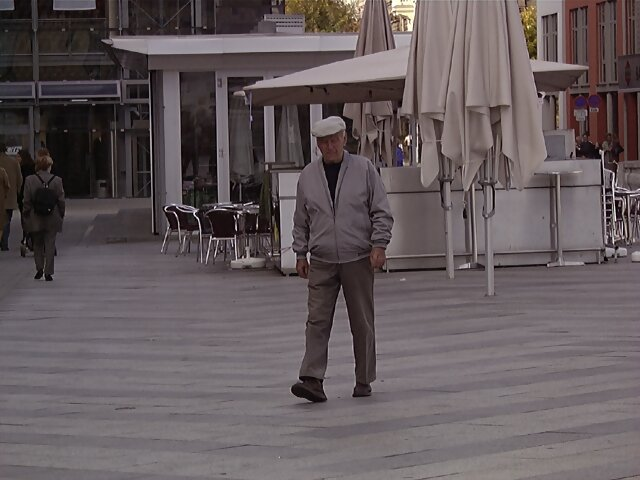person: (287, 115, 399, 411), (21, 152, 75, 288)
